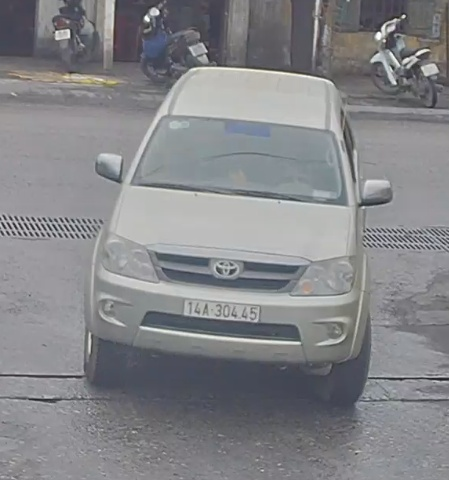vehicle plate: (177, 295, 267, 325)
